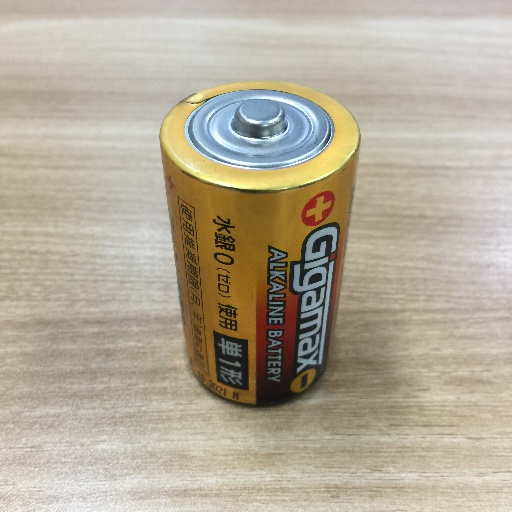Battery_0: (145, 74, 366, 419)
